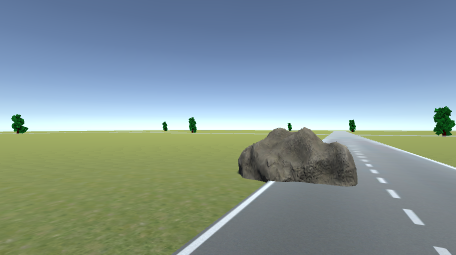rock: (236, 128, 361, 186)
tree: (433, 106, 455, 137), (11, 113, 28, 136), (188, 116, 198, 134), (348, 119, 358, 134), (160, 121, 169, 131), (287, 123, 293, 132)
